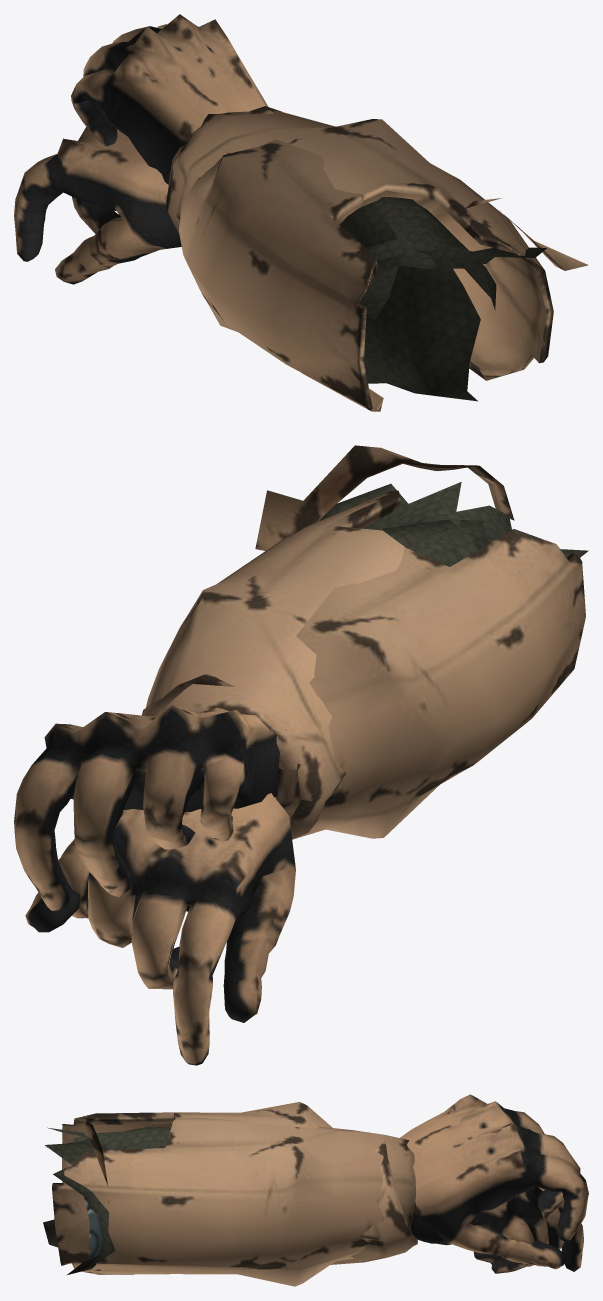
File: hands-v1.glb
The picture shows the model from 3 angles, top to bottom: view 1: azimuth 30°, elevation 25°; view 2: azimuth 150°, elevation 25°; view 3: azimuth 270°, elevation 25°; orthographic projection. The views are drawn at different scales.
Visible parts, largest first — view 1: armLeft, armRight; view 2: armLeft, armRight; view 3: armRight, armLeft.
Part boxes in pixels (x1,y1,x2,y2): armLeft: (71, 14, 588, 411); armRight: (14, 110, 553, 380); armLeft: (14, 445, 585, 932); armRight: (59, 490, 588, 1065); armRight: (43, 1118, 583, 1286); armLeft: (45, 1094, 588, 1274).
Size of the model in its own units: 0.2282 by 0.1921 by 0.5047.
Materials: 1 (1 with a texture image).
